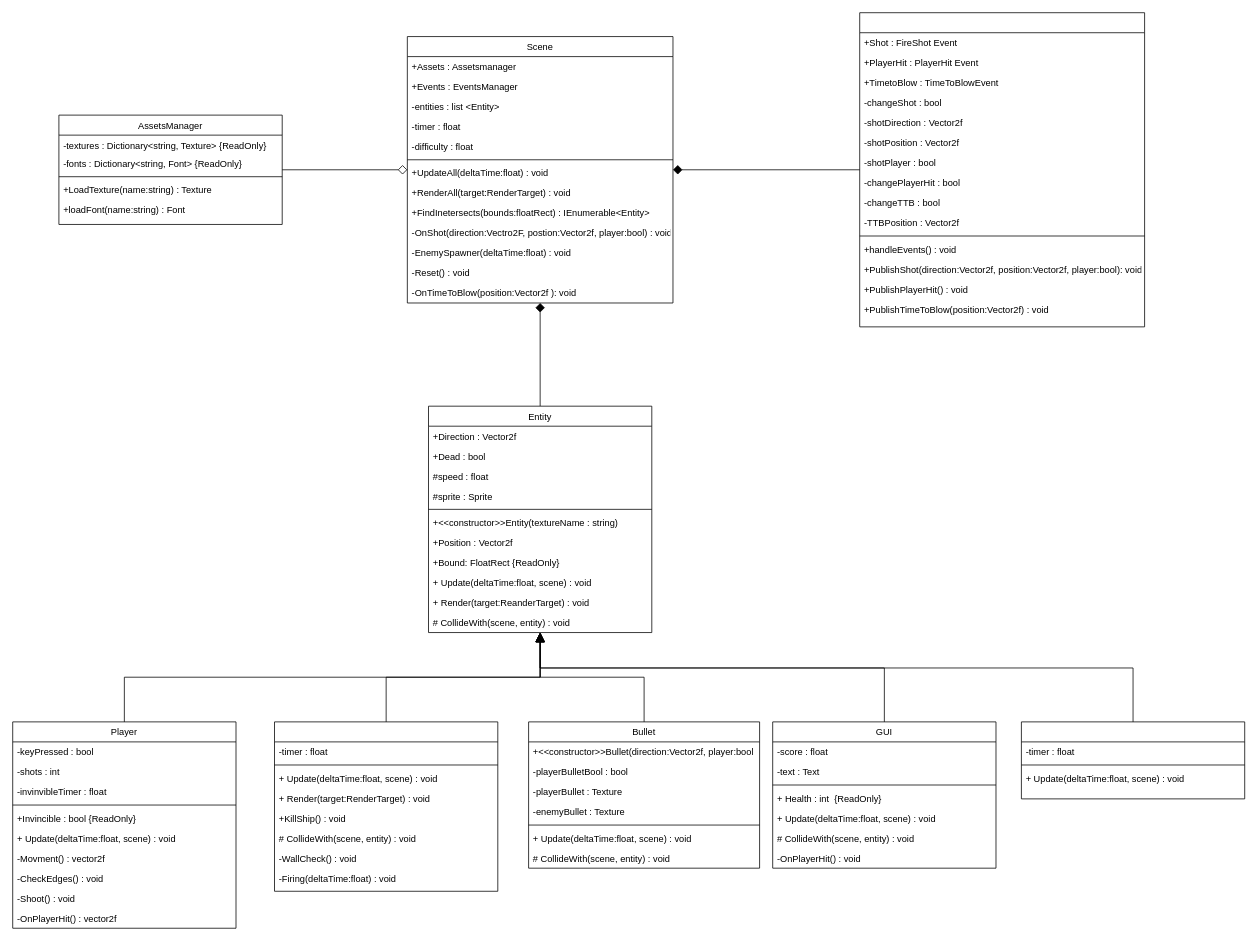
Image size: 1257x941. Some labels were removed from this diagram. The shapes that lost their labels are listed below. From the top down, each one's box as (x1, y1, x2, y2) in pixels, then its label:
(859, 12, 1145, 327): EventManager
(1021, 721, 1245, 799): Explosion
(274, 721, 498, 891): Enemy
